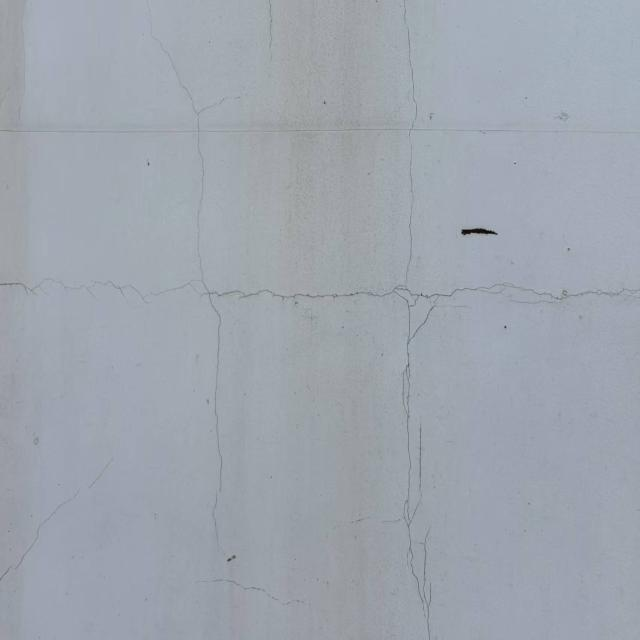crack: (4, 7, 637, 632), (2, 454, 120, 588), (266, 4, 276, 51)
